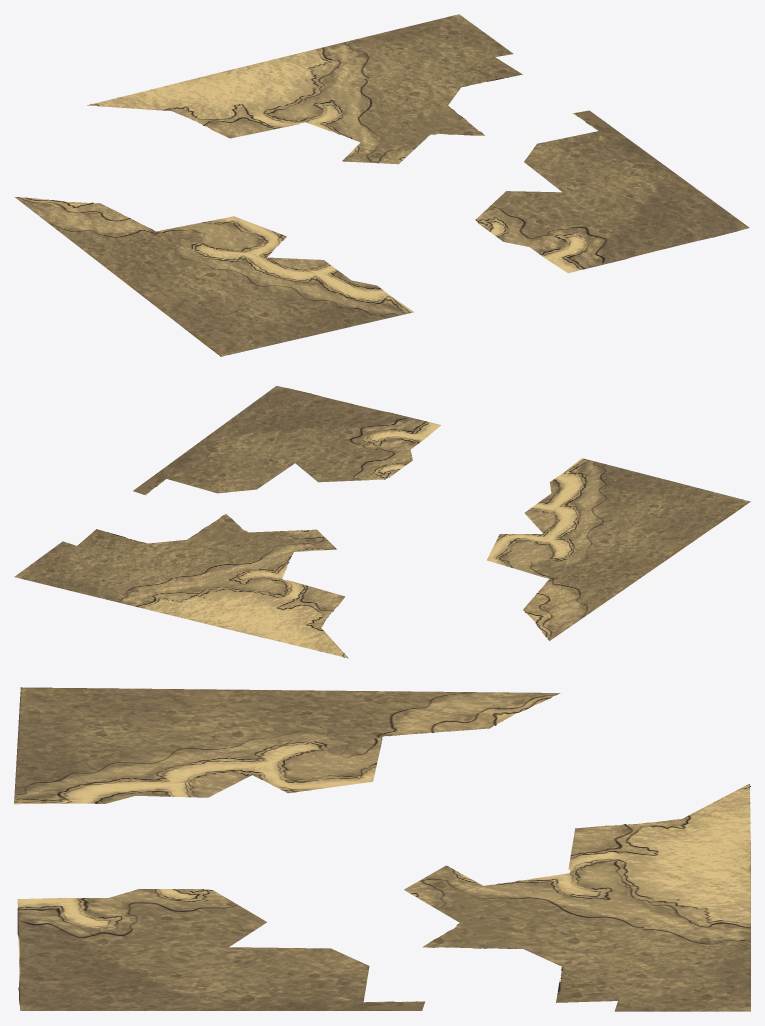
Rendered from cave_map.fbx.
The picture shows the model from 3 angles, top to bottom: view 1: azimuth 30°, elevation 25°; view 2: azimuth 150°, elevation 25°; view 3: azimuth 270°, elevation 25°; orthographic projection. The views are drawn at different scales.
Visible parts, largest first — view 1: Cube.001, Cube.002, Cube.003; view 2: Cube.001, Cube.002, Cube.003; view 3: Cube.001, Cube.002, Cube.003.
Boxes of the visible parts, x1=… form: Cube.001: x1=87, y1=14, x2=522, y2=164; Cube.002: x1=15, y1=197, x2=413, y2=356; Cube.003: x1=475, y1=110, x2=749, y2=273; Cube.001: x1=14, y1=514, x2=348, y2=658; Cube.002: x1=487, y1=458, x2=750, y2=640; Cube.003: x1=133, y1=385, x2=440, y2=495; Cube.001: x1=404, y1=784, x2=750, y2=1011; Cube.002: x1=14, y1=687, x2=560, y2=804; Cube.003: x1=17, y1=889, x2=425, y2=1010.
Bounding box in the file's own units: 283 × 1.13 × 273.
